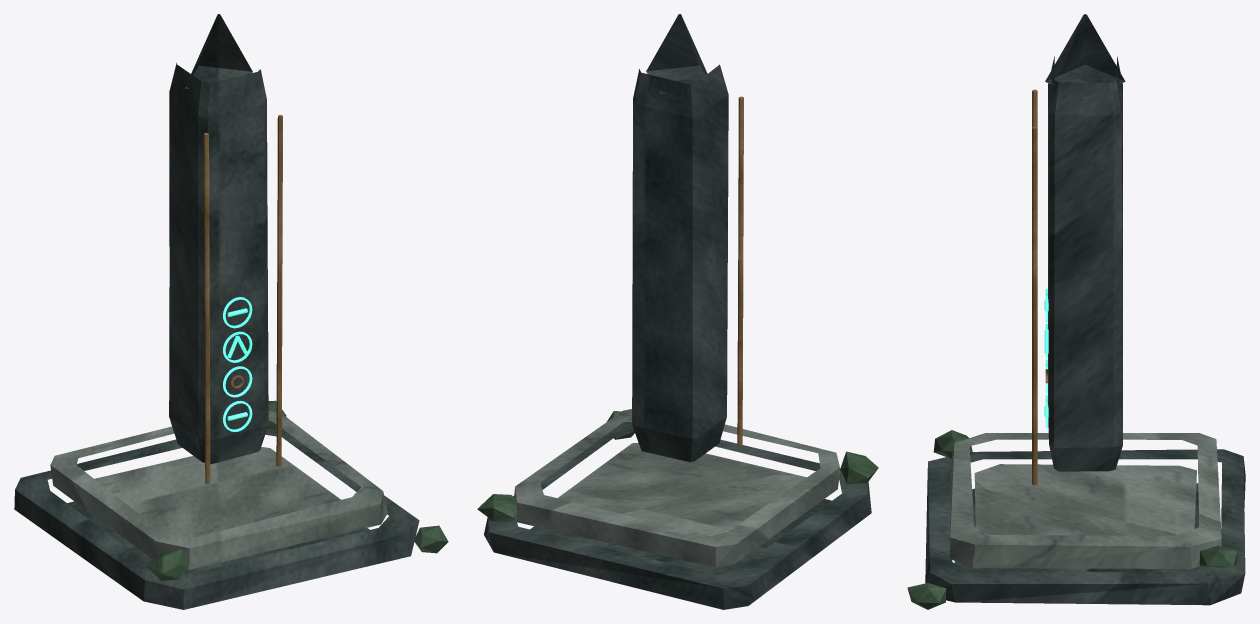
The model's file is 0480_obelisk_05.glb.
3 renders of one model, left to right at view 1: azimuth 30°, elevation 25°; view 2: azimuth 150°, elevation 25°; view 3: azimuth 270°, elevation 25°, orthographic. The views are drawn at different scales.
Visible parts, largest first — view 1: stone_dark, stone, brass, moss, glow; view 2: stone_dark, stone, brass, moss; view 3: stone_dark, stone, brass, moss, glow.
Boxes of the visible parts, bbox=[...] form: stone_dark: bbox=[14, 14, 419, 609]; stone: bbox=[50, 411, 387, 569]; brass: bbox=[203, 115, 282, 483]; moss: bbox=[145, 400, 448, 580]; glow: bbox=[223, 297, 252, 431]; stone_dark: bbox=[484, 14, 871, 609]; stone: bbox=[514, 409, 840, 567]; brass: bbox=[737, 96, 743, 445]; moss: bbox=[477, 411, 878, 521]; stone_dark: bbox=[925, 14, 1245, 605]; stone: bbox=[950, 433, 1221, 568]; brass: bbox=[1032, 89, 1047, 485]; moss: bbox=[907, 430, 1237, 609]; glow: bbox=[1044, 288, 1048, 428].
Size of the model in its own units: 2 by 3.45 by 2.01.
Materials: 5 (5 with a texture image).
